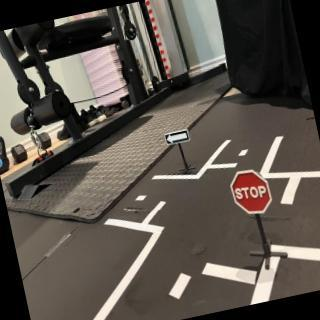sign_oneway_left: (163, 127, 192, 147)
sign_stop: (229, 168, 274, 218)
